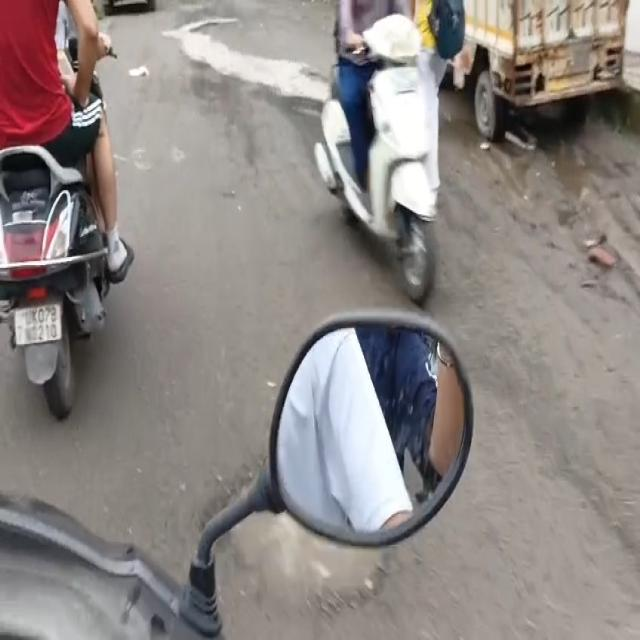road-pothole: (157, 8, 320, 170)
